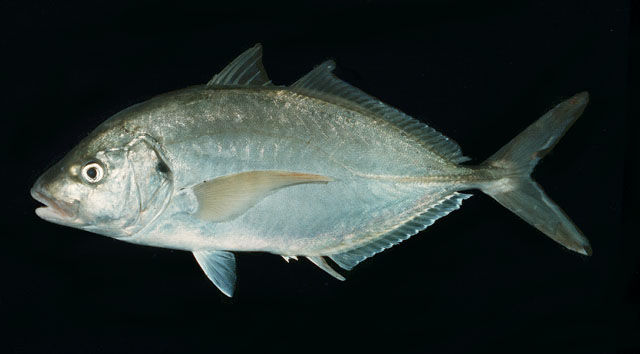fish: (31, 44, 592, 298)
